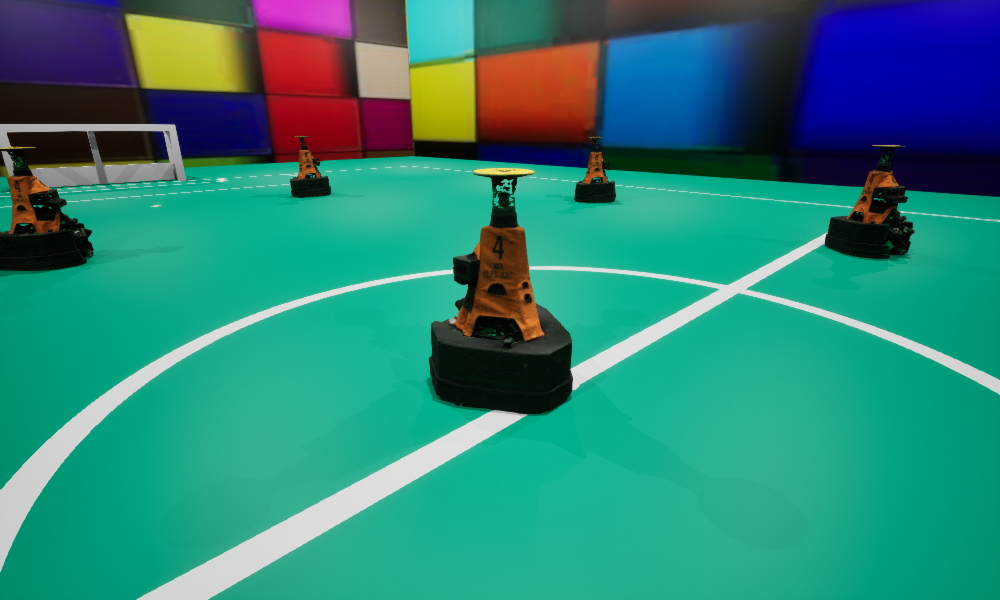0 orange robot TechUnited: (429, 168, 572, 413), (0, 147, 93, 270), (825, 145, 914, 258), (574, 137, 615, 202), (290, 136, 330, 197)
